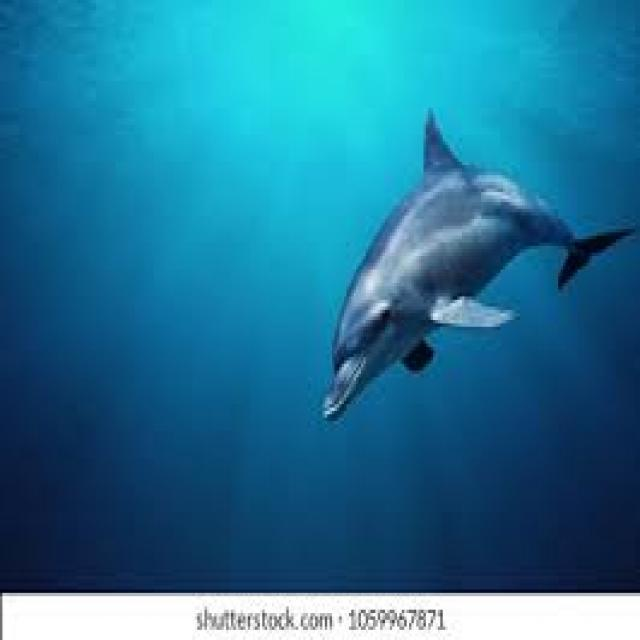dolphin: (305, 91, 640, 481)
